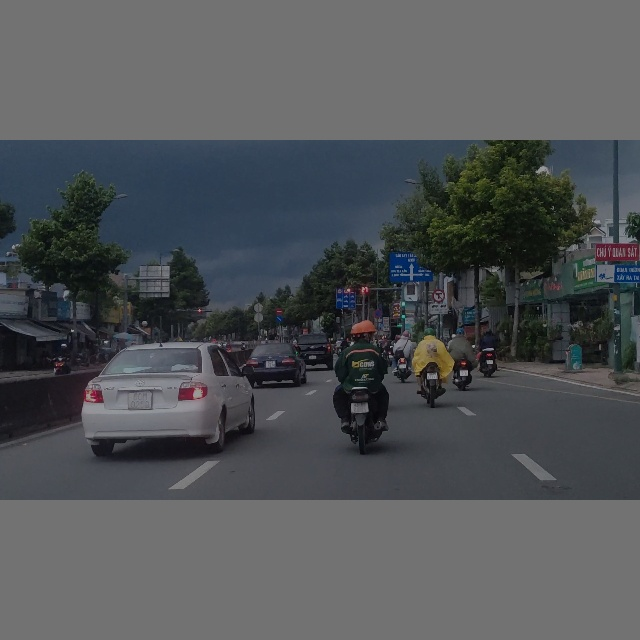P.102: (276, 308, 283, 315)
P.131a: (374, 309, 382, 318)
P.137: (432, 290, 445, 302)
R.302a: (276, 316, 283, 322)
R.415a: (336, 293, 355, 309)
